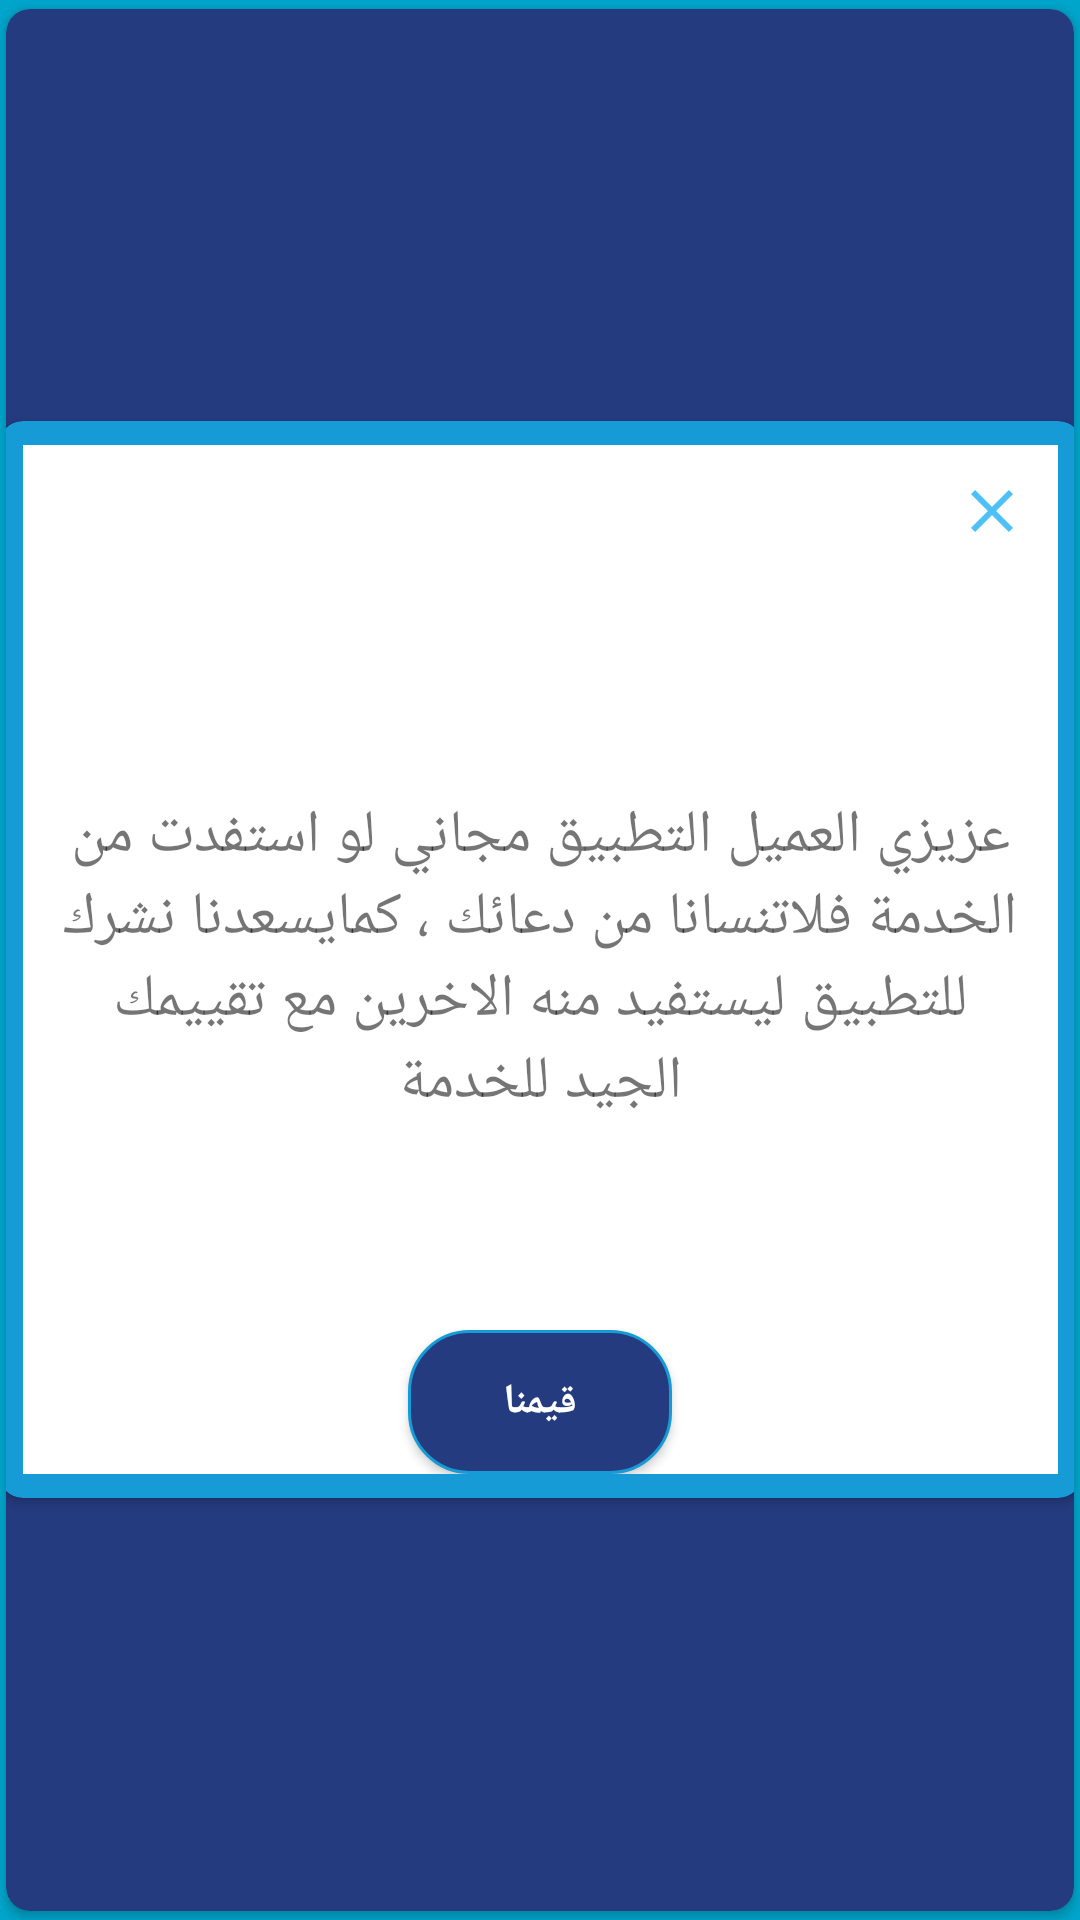

Named icons in this screenshot (1080 x 1920) and their centers, (x=x, y=y):
close: (x=992, y=511)
